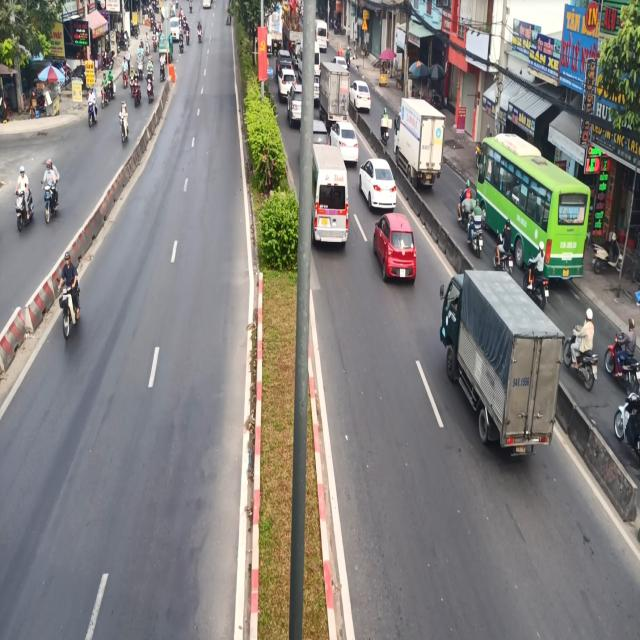bus: (474, 130, 596, 289)
car: (374, 208, 422, 302), (312, 148, 350, 261), (356, 150, 401, 221)
motor: (52, 246, 84, 345), (39, 152, 63, 225), (12, 164, 34, 232), (119, 96, 131, 153)
truck: (436, 265, 562, 472)
